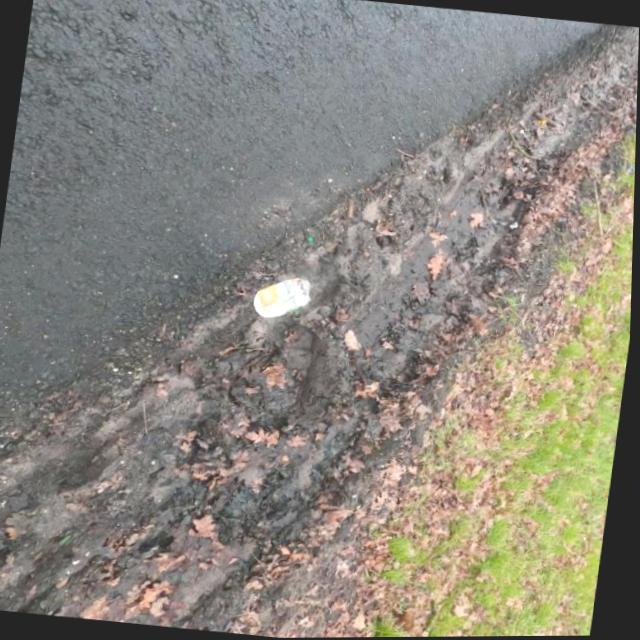Can-Metal: (251, 273, 316, 323)
